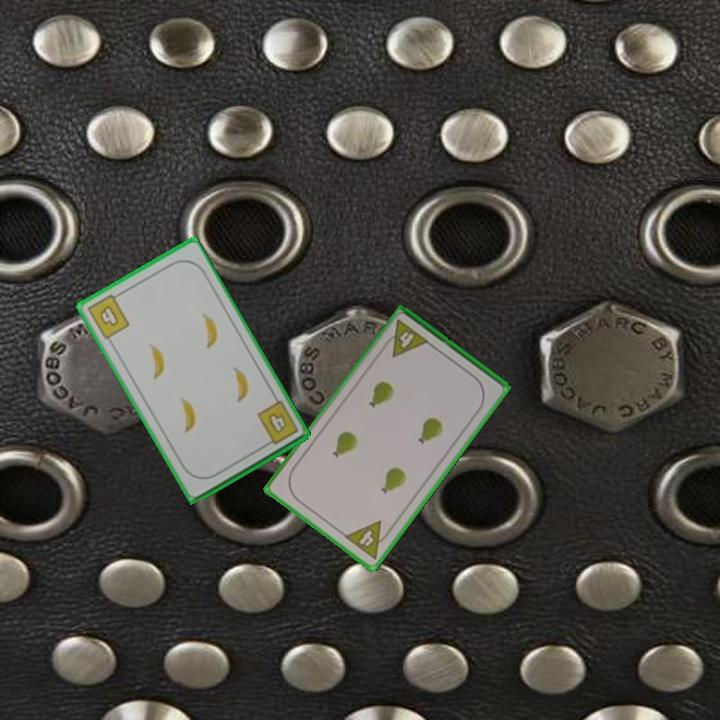4b: (83, 289, 132, 342), (253, 397, 301, 450)
4p: (341, 517, 395, 562), (379, 316, 432, 360)
